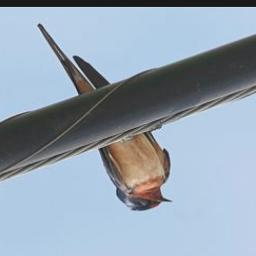Swallow: (37, 24, 174, 213)
